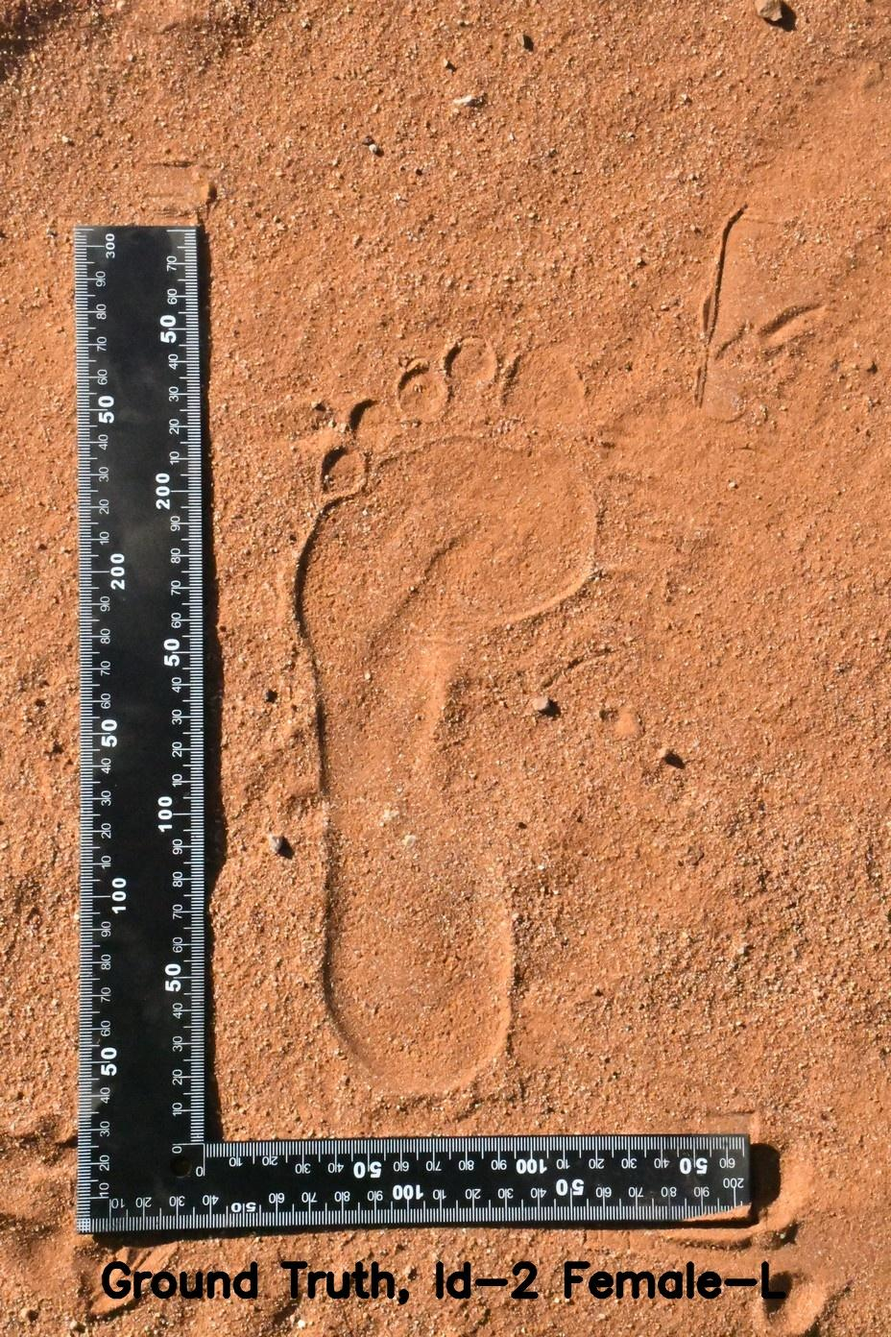human_foot_print: (240, 279, 663, 1136)
